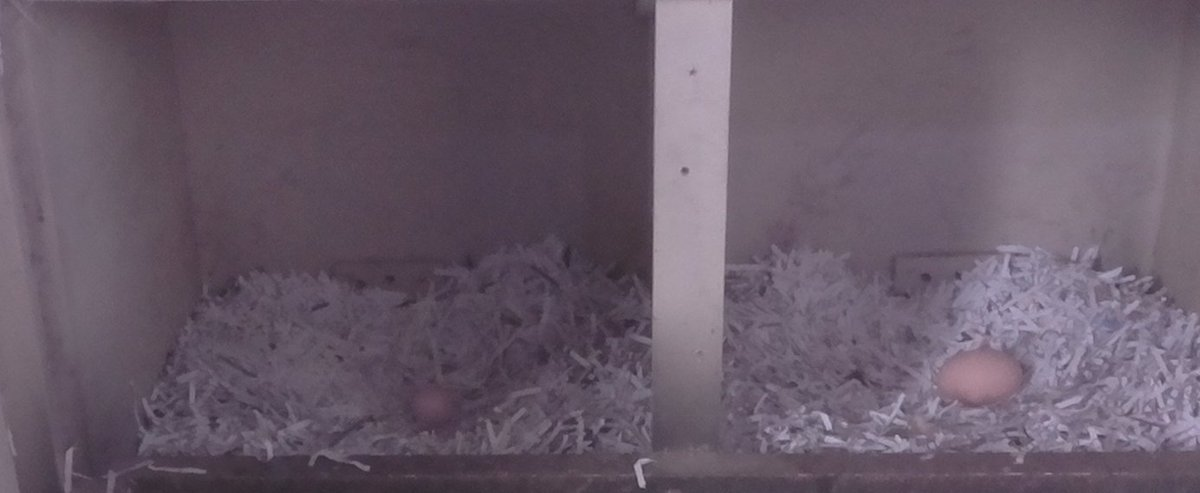egg: (932, 347, 1026, 408), (406, 381, 457, 424)
